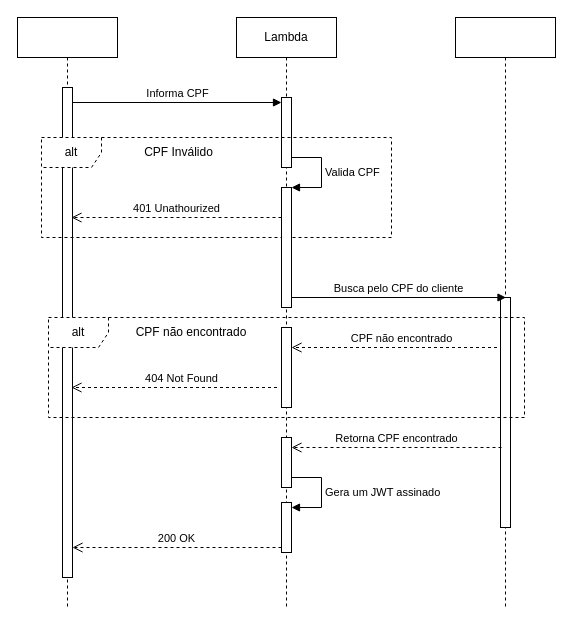
The diagram is 573 pixels wide and 625 high, and some of its shapes have lost their labels. Here are the shapes that lost their labels. From the top down, the centre of each, then its label:
At pixel 67 312: "Usuário".
At pixel 505 312: "Banco de dados".
